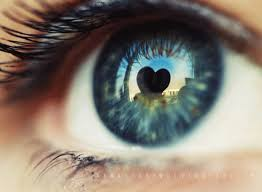pupil: (94, 22, 222, 145)
